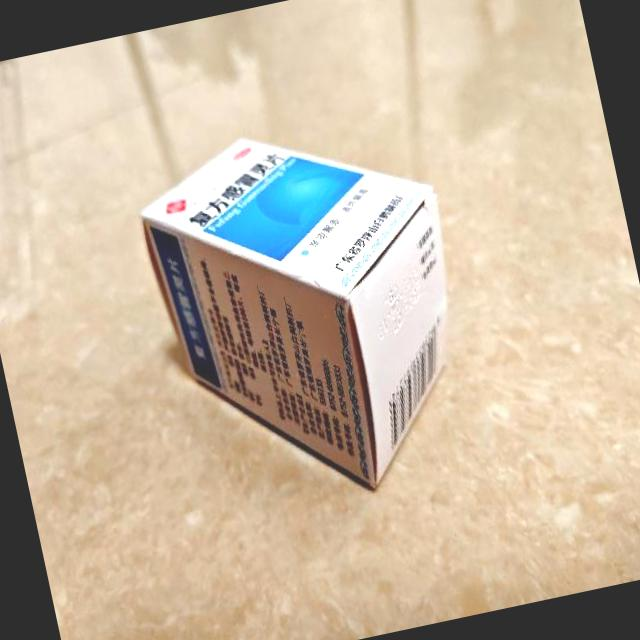box: (128, 102, 492, 529)
